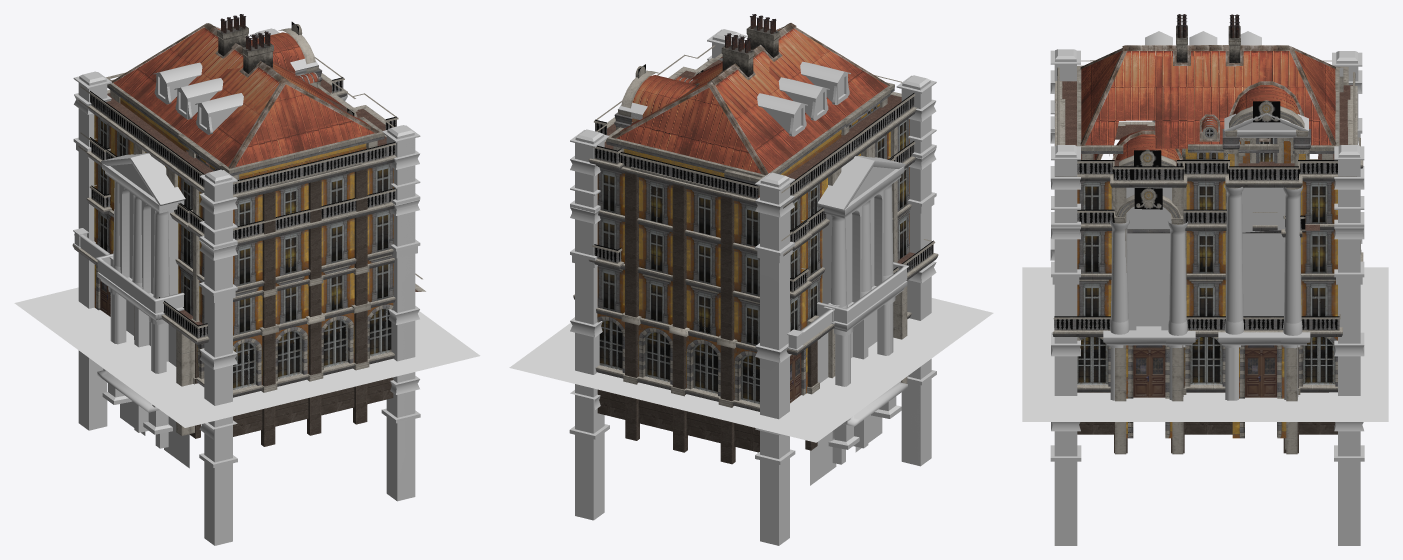
File: tier4_mid.gltf
The picture shows the model from 3 angles, left to right: view 1: azimuth 30°, elevation 25°; view 2: azimuth 150°, elevation 25°; view 3: azimuth 270°, elevation 25°; orthographic projection. The views are drawn at different scales.
Visible parts, largest first — view 1: _lod0, ground, side-bottom.009, nice-facade.078, palace-tower.053, palace-tower.044, roof.008, nice-facade.113, palace-tower.050, palace-tower.052, palace-tower.058, nice-facade.112 (+29 smaller); view 2: _lod0, ground, nice-facade.078, side-bottom.008, palace-tower.052, roof.009, palace-tower.044, nice-facade.109, nice-facade.108, palace-tower.051, palace-tower.053, nice-facade.091 (+34 smaller); view 3: _lod0, ground, nice-facade.078, nice-facade.105, wall-front-ground.007, roof-fence.025, palace-tower.051, roof-window.010, nice-facade.087, palace-tower.047, palace-tower.050, palace-tower.054 (+23 smaller).
Boxes of the visible parts, x1,y1,x2,y2 form: _lod0: (73, 14, 421, 545); ground: (14, 287, 480, 427); side-bottom.009: (233, 303, 394, 446); nice-facade.078: (113, 23, 370, 166); palace-tower.053: (199, 222, 237, 545); palace-tower.044: (101, 153, 185, 320); roof.008: (228, 81, 379, 168); nice-facade.113: (275, 218, 354, 324); palace-tower.050: (386, 182, 420, 493); palace-tower.052: (74, 152, 107, 430); palace-tower.058: (95, 253, 184, 434); nice-facade.112: (233, 209, 393, 341); _lod0: (570, 14, 936, 520); ground: (509, 298, 993, 442); nice-facade.078: (620, 23, 887, 173); side-bottom.008: (595, 313, 759, 463); palace-tower.052: (755, 256, 795, 545); roof.009: (611, 82, 768, 175); palace-tower.044: (818, 155, 905, 308); nice-facade.109: (639, 224, 720, 336); nice-facade.108: (596, 216, 759, 352); palace-tower.051: (569, 188, 604, 435); palace-tower.053: (902, 130, 936, 466); nice-facade.091: (639, 177, 720, 237); _lod0: (1050, 14, 1364, 545); ground: (1022, 267, 1388, 421); nice-facade.078: (1085, 45, 1331, 148); nice-facade.105: (1052, 223, 1342, 336); wall-front-ground.007: (1077, 337, 1337, 454); roof-fence.025: (1077, 160, 1356, 187); palace-tower.051: (1334, 208, 1364, 509); roof-window.010: (1222, 81, 1310, 166); nice-facade.087: (1077, 181, 1337, 278); palace-tower.047: (1218, 185, 1280, 400); palace-tower.050: (1050, 208, 1080, 464); palace-tower.054: (1242, 233, 1284, 316).
Size of the model in its own units: 3 by 4.28 by 3.
